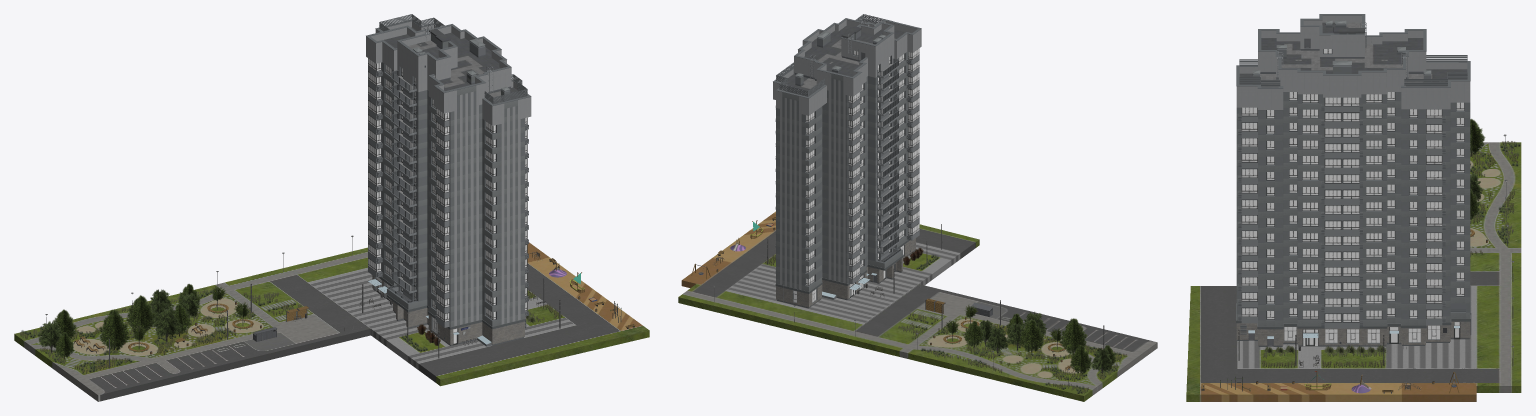
The model's file is 01_LetchikaBabushkina_Vl_29_K_5_01.glb.
The picture shows the model from 3 angles, left to right: view 1: azimuth 30°, elevation 25°; view 2: azimuth 150°, elevation 25°; view 3: azimuth 270°, elevation 25°; orthographic projection. The views are drawn at different scales.
Visible parts, largest first — view 1: SM_LetchikaBabushkina_Vl_29_K_5_001_Main, SM_LetchikaBabushkina_Vl_29_K_5_Ground, SM_LetchikaBabushkina_Vl_29_K_5_Flora, SM_LetchikaBabushkina_Vl_29_K_5_GroundEl; view 2: SM_LetchikaBabushkina_Vl_29_K_5_001_Main, SM_LetchikaBabushkina_Vl_29_K_5_Ground, SM_LetchikaBabushkina_Vl_29_K_5_Flora, SM_LetchikaBabushkina_Vl_29_K_5_GroundEl; view 3: SM_LetchikaBabushkina_Vl_29_K_5_001_Main, SM_LetchikaBabushkina_Vl_29_K_5_Ground, SM_LetchikaBabushkina_Vl_29_K_5_Flora, SM_LetchikaBabushkina_Vl_29_K_5_GroundEl.
Boxes of the visible parts, <box> form: SM_LetchikaBabushkina_Vl_29_K_5_001_Main: <box>366,14,531,346</box>; SM_LetchikaBabushkina_Vl_29_K_5_Ground: <box>14,242,649,401</box>; SM_LetchikaBabushkina_Vl_29_K_5_Flora: <box>20,283,562,373</box>; SM_LetchikaBabushkina_Vl_29_K_5_GroundEl: <box>45,235,635,367</box>; SM_LetchikaBabushkina_Vl_29_K_5_001_Main: <box>773,14,921,308</box>; SM_LetchikaBabushkina_Vl_29_K_5_Ground: <box>678,211,1157,401</box>; SM_LetchikaBabushkina_Vl_29_K_5_Flora: <box>765,248,1126,393</box>; SM_LetchikaBabushkina_Vl_29_K_5_GroundEl: <box>691,217,1104,385</box>; SM_LetchikaBabushkina_Vl_29_K_5_001_Main: <box>1236,14,1471,346</box>; SM_LetchikaBabushkina_Vl_29_K_5_Ground: <box>1186,142,1521,401</box>; SM_LetchikaBabushkina_Vl_29_K_5_Flora: <box>1261,118,1520,367</box>; SM_LetchikaBabushkina_Vl_29_K_5_GroundEl: <box>1201,134,1514,393</box>.
Bounding box in the file's own units: 106 × 60.45 × 58.99.
Materials: 5 (4 with a texture image).
